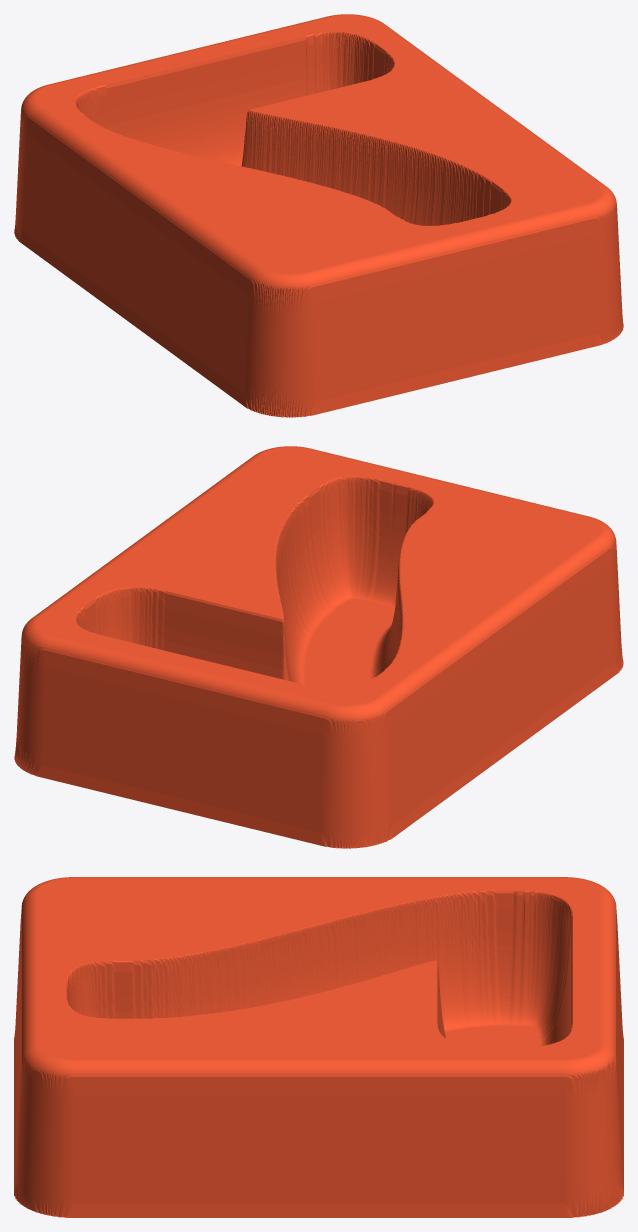
Rendered from mold.glb.
The picture shows the model from 3 angles, top to bottom: view 1: azimuth 30°, elevation 25°; view 2: azimuth 150°, elevation 25°; view 3: azimuth 270°, elevation 25°; orthographic projection. The views are drawn at different scales.
Visible parts, largest first — view 1: geometry_0; view 2: geometry_0; view 3: geometry_0.
Boxes of the visible parts, x1,y1,x2,y2 form: geometry_0: (14,14,623,417); geometry_0: (14,446,623,848); geometry_0: (14,877,623,1217).
Bounding box in the file's own units: 0.072 × 0.0248 × 0.0924.
